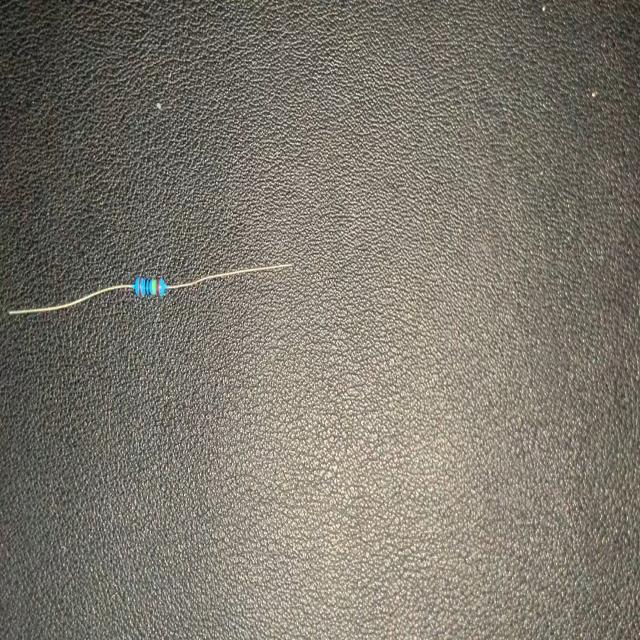resistor: (4, 254, 294, 321)
